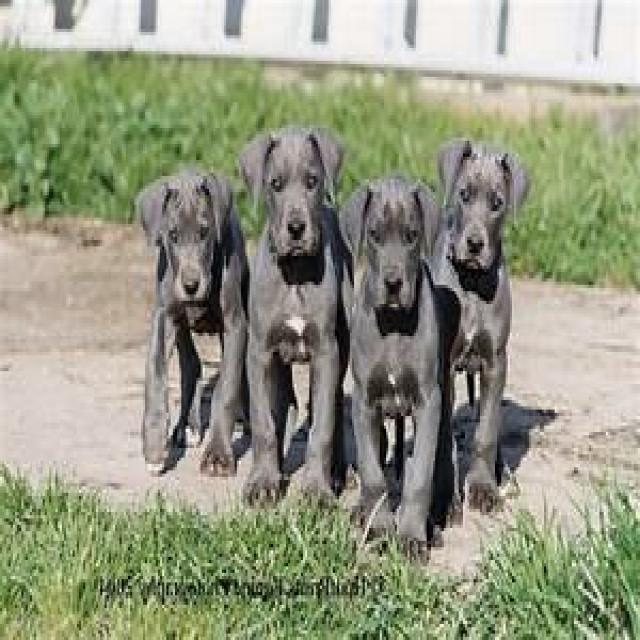KOPEK: (240, 121, 349, 504), (135, 118, 239, 492), (436, 133, 534, 526), (350, 136, 435, 564)
